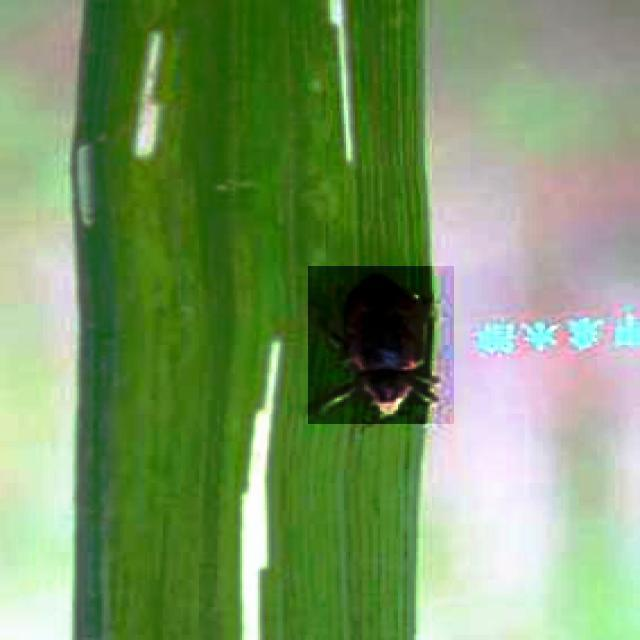rice-bug: (308, 266, 454, 424)
